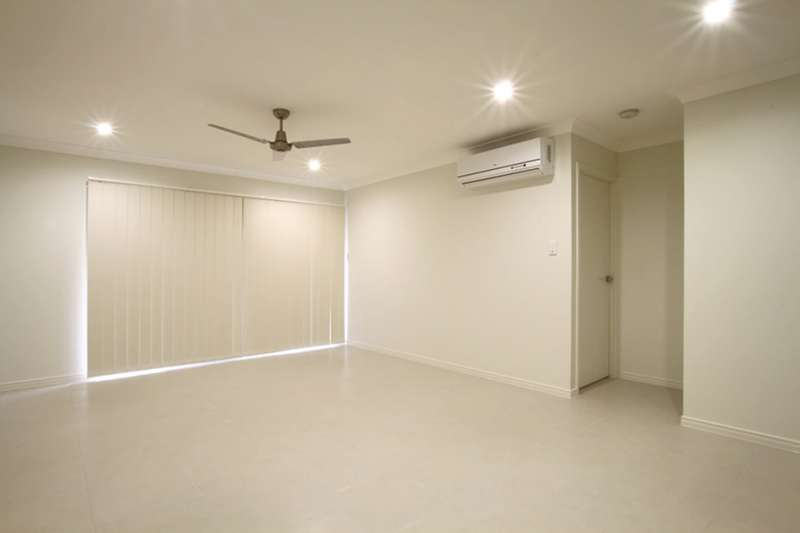ceiling fan: (201, 96, 357, 172)
